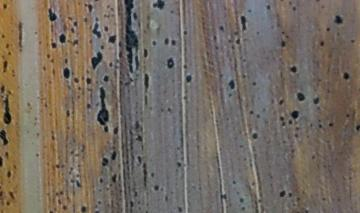tarspot: (123, 1, 141, 75), (96, 86, 111, 126), (1, 88, 13, 126), (90, 14, 102, 42), (90, 50, 104, 72), (16, 19, 24, 54), (1, 127, 11, 149), (46, 7, 58, 23), (142, 72, 151, 93), (238, 14, 249, 31), (165, 54, 176, 69), (151, 1, 167, 11), (142, 161, 148, 187), (296, 90, 306, 104), (61, 66, 70, 80), (58, 31, 67, 45), (106, 34, 117, 45), (288, 63, 298, 75), (7, 189, 17, 201), (100, 155, 109, 168), (1, 60, 9, 74), (341, 70, 351, 81), (333, 14, 343, 25), (183, 72, 194, 82), (70, 38, 81, 48), (227, 79, 236, 91), (290, 109, 300, 119), (134, 134, 145, 143), (218, 190, 227, 201), (110, 149, 118, 161), (86, 2, 94, 14), (134, 119, 140, 134), (49, 41, 59, 50), (25, 101, 31, 116), (78, 205, 89, 213), (117, 48, 124, 60), (6, 169, 13, 181), (64, 108, 73, 117), (277, 189, 286, 198), (151, 183, 159, 193), (1, 84, 8, 95), (312, 96, 320, 105), (234, 37, 242, 46), (101, 125, 110, 133), (110, 173, 118, 182), (143, 93, 149, 105), (102, 24, 111, 32), (85, 77, 93, 86), (112, 125, 119, 135), (163, 37, 170, 47), (98, 176, 105, 186), (75, 178, 82, 188), (142, 47, 148, 58), (50, 66, 56, 77), (264, 3, 272, 11), (250, 80, 258, 88), (66, 14, 74, 22), (82, 15, 90, 23), (2, 3, 10, 11), (3, 151, 11, 159), (95, 198, 103, 206), (34, 130, 42, 138), (251, 131, 258, 140), (102, 74, 109, 83), (63, 56, 70, 65), (310, 152, 317, 161), (278, 97, 284, 107), (318, 39, 325, 47), (279, 39, 286, 47), (314, 105, 322, 112), (218, 24, 225, 32), (128, 129, 135, 137), (176, 205, 183, 213), (85, 102, 93, 109), (72, 77, 80, 84), (58, 189, 66, 196), (34, 151, 41, 159), (49, 134, 57, 141), (32, 28, 39, 36), (47, 110, 54, 118), (279, 138, 287, 145), (354, 124, 360, 133), (182, 28, 188, 37), (136, 155, 142, 164), (138, 125, 144, 134), (139, 143, 145, 152), (117, 39, 123, 48), (41, 64, 47, 73), (287, 190, 293, 199), (164, 193, 169, 203), (327, 121, 334, 128), (247, 108, 254, 115), (254, 112, 261, 119), (227, 37, 234, 44), (151, 39, 158, 46), (238, 196, 245, 203), (3, 42, 10, 49), (292, 132, 299, 139), (182, 93, 189, 100), (319, 4, 327, 10), (175, 160, 181, 168), (159, 106, 165, 114), (170, 39, 176, 47), (107, 60, 113, 68), (69, 26, 75, 34), (76, 93, 82, 101), (45, 51, 51, 59), (54, 162, 60, 170), (56, 198, 62, 206), (6, 50, 14, 56), (293, 125, 301, 131), (133, 188, 138, 197), (1, 155, 4, 170), (335, 30, 341, 37), (325, 26, 331, 33), (317, 124, 324, 130), (279, 121, 286, 127), (166, 106, 172, 113), (230, 179, 237, 185), (4, 200, 11, 206), (11, 163, 18, 169), (49, 57, 56, 63), (61, 204, 68, 210), (36, 39, 42, 46), (1, 33, 7, 40), (309, 121, 314, 129), (278, 116, 286, 121), (270, 97, 275, 105), (241, 72, 246, 80), (129, 199, 134, 207), (250, 181, 258, 186), (349, 38, 355, 44), (284, 33, 290, 39), (255, 30, 261, 36), (233, 30, 239, 36), (241, 57, 247, 63), (72, 20, 78, 26), (240, 204, 246, 210), (1, 190, 5, 199), (76, 85, 82, 91), (47, 78, 53, 84), (320, 196, 326, 202), (257, 198, 263, 204), (305, 134, 311, 140), (230, 43, 235, 50), (303, 208, 310, 213), (93, 209, 101, 213), (291, 5, 296, 11), (247, 8, 252, 14), (159, 186, 164, 192), (136, 200, 142, 205), (54, 191, 59, 197), (317, 118, 322, 123), (295, 196, 300, 201), (287, 1, 293, 5), (144, 209, 150, 213), (136, 206, 142, 210), (235, 190, 241, 194), (47, 210, 55, 213), (314, 1, 321, 4), (150, 171, 153, 178), (1, 184, 4, 191), (345, 113, 349, 118), (280, 30, 285, 34), (287, 119, 291, 124), (145, 201, 149, 206), (278, 1, 283, 3), (93, 1, 101, 2)
